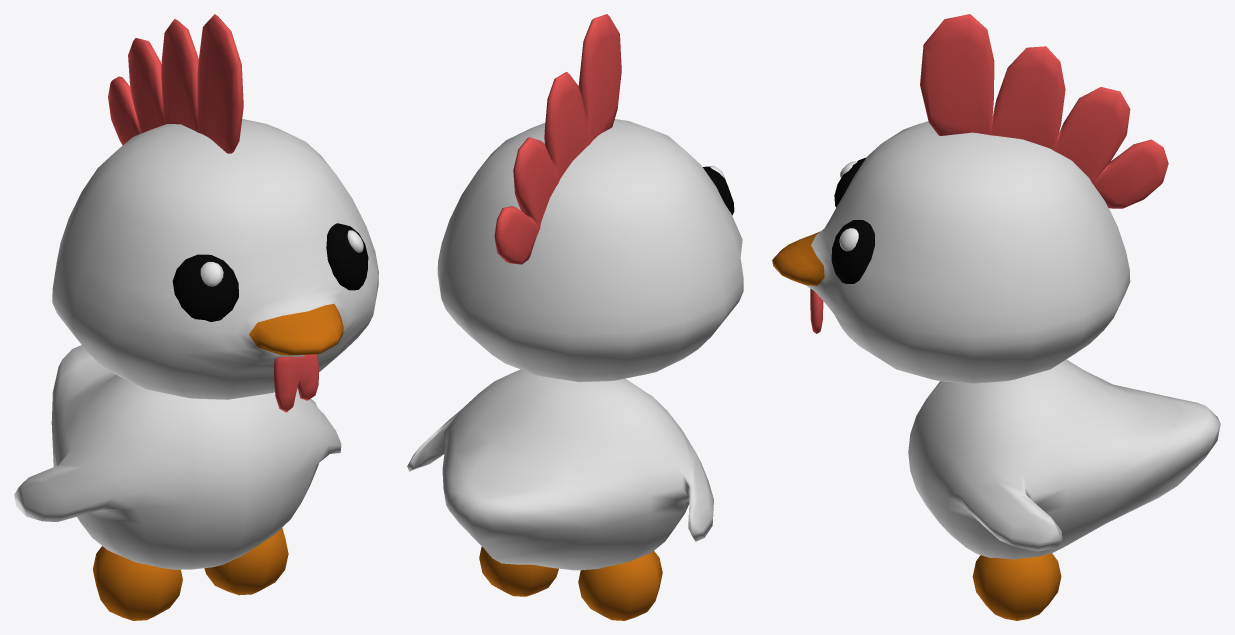
Rendered from chicken.fbx.
3 views of the same model, side by side, from view 1: azimuth 30°, elevation 25°; view 2: azimuth 150°, elevation 25°; view 3: azimuth 270°, elevation 25° (orthographic). The views are drawn at different scales.
Parts seen in each view (by area): view 1: chicken_head, chicken_body; view 2: chicken_head, chicken_body; view 3: chicken_head, chicken_body.
Part boxes in pixels (bbox=[...]): chicken_head: bbox=[52, 14, 378, 412]; chicken_body: bbox=[14, 345, 341, 620]; chicken_head: bbox=[437, 14, 743, 382]; chicken_body: bbox=[407, 369, 713, 620]; chicken_head: bbox=[772, 14, 1168, 383]; chicken_body: bbox=[908, 359, 1220, 620].
Size of the model in its own units: 61.36 by 117 by 82.11.
